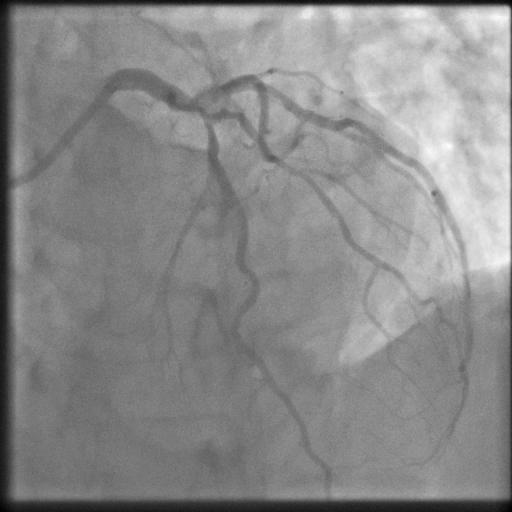Stenosis: (189, 100, 215, 135)
